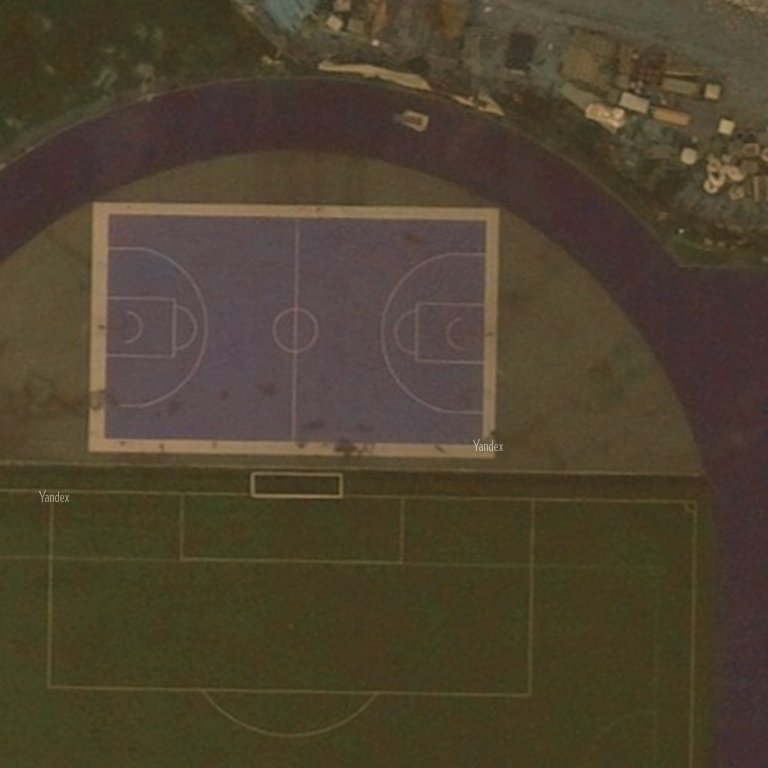basket_court: (111, 218, 482, 441)
